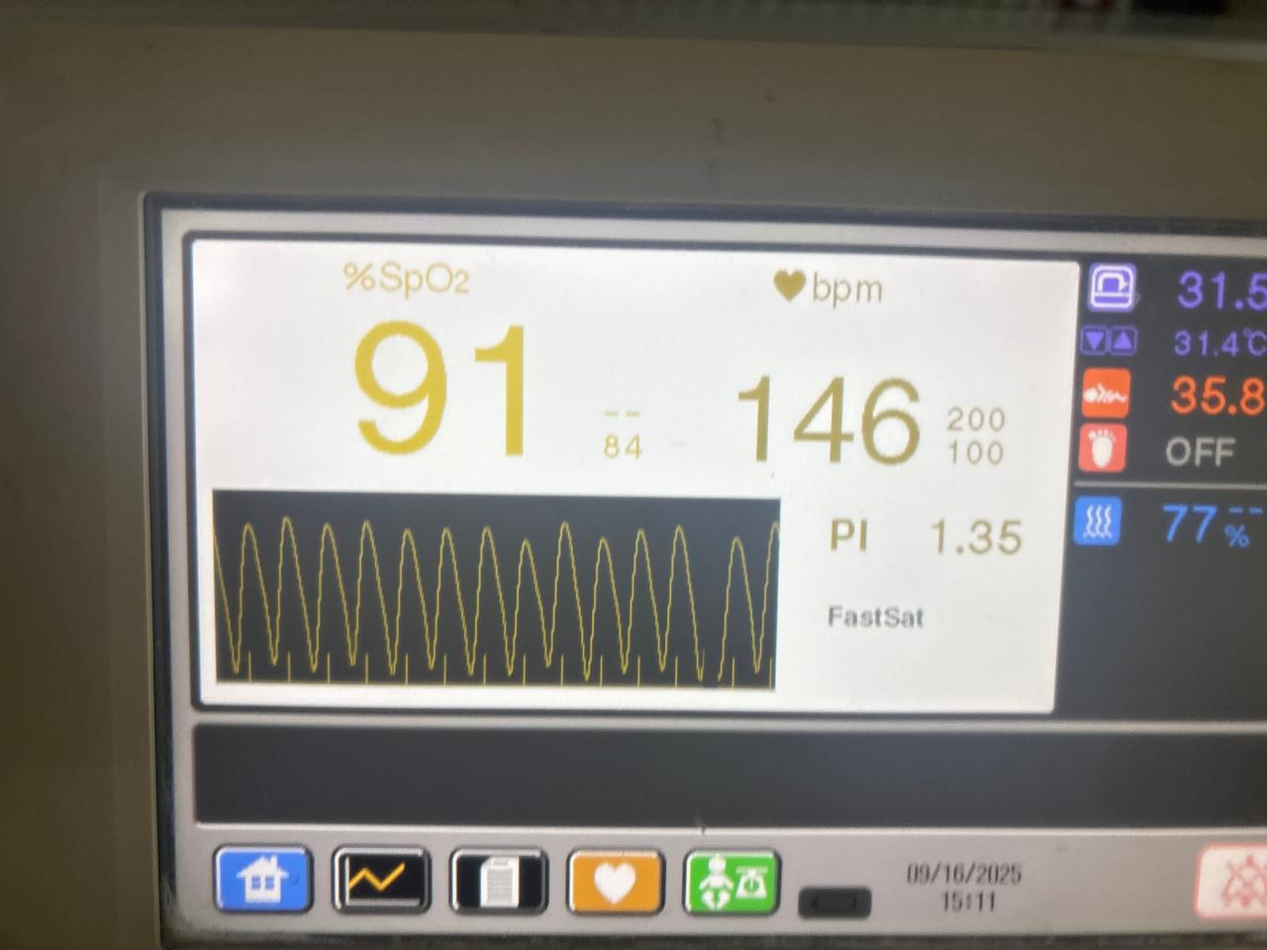air_temp_value: (1152, 252, 1267, 329)
heart_rate_value: (734, 363, 931, 484)
humidity_value: (1141, 497, 1222, 553)
skin_temp_value: (1147, 367, 1267, 418)
spo2_value: (340, 303, 549, 471)
